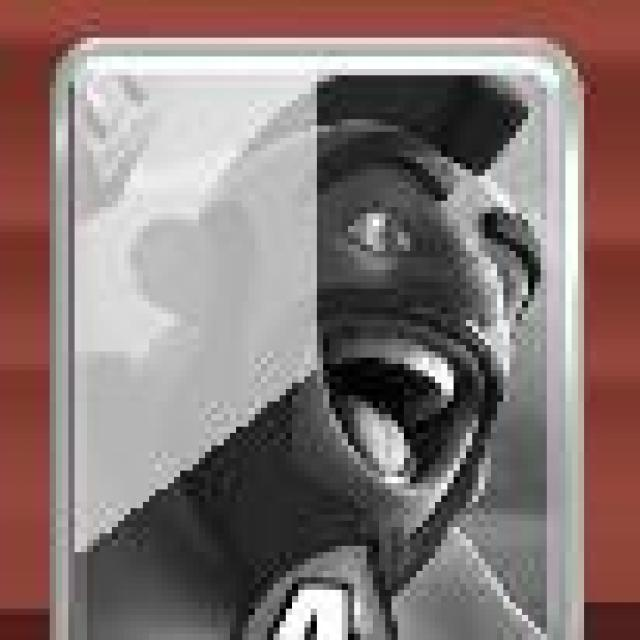Hog_Rider: (60, 37, 584, 640)
